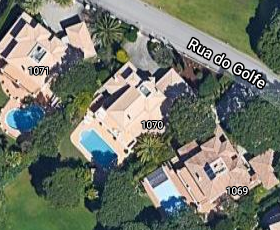pool: (82, 130, 116, 161), (156, 184, 186, 208), (7, 110, 43, 128)
